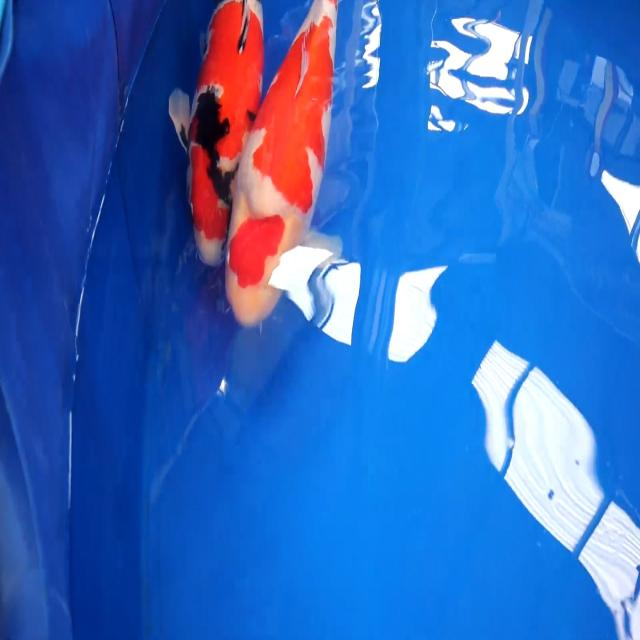Kohaku: (223, 0, 360, 345)
Showa: (168, 0, 265, 268)
